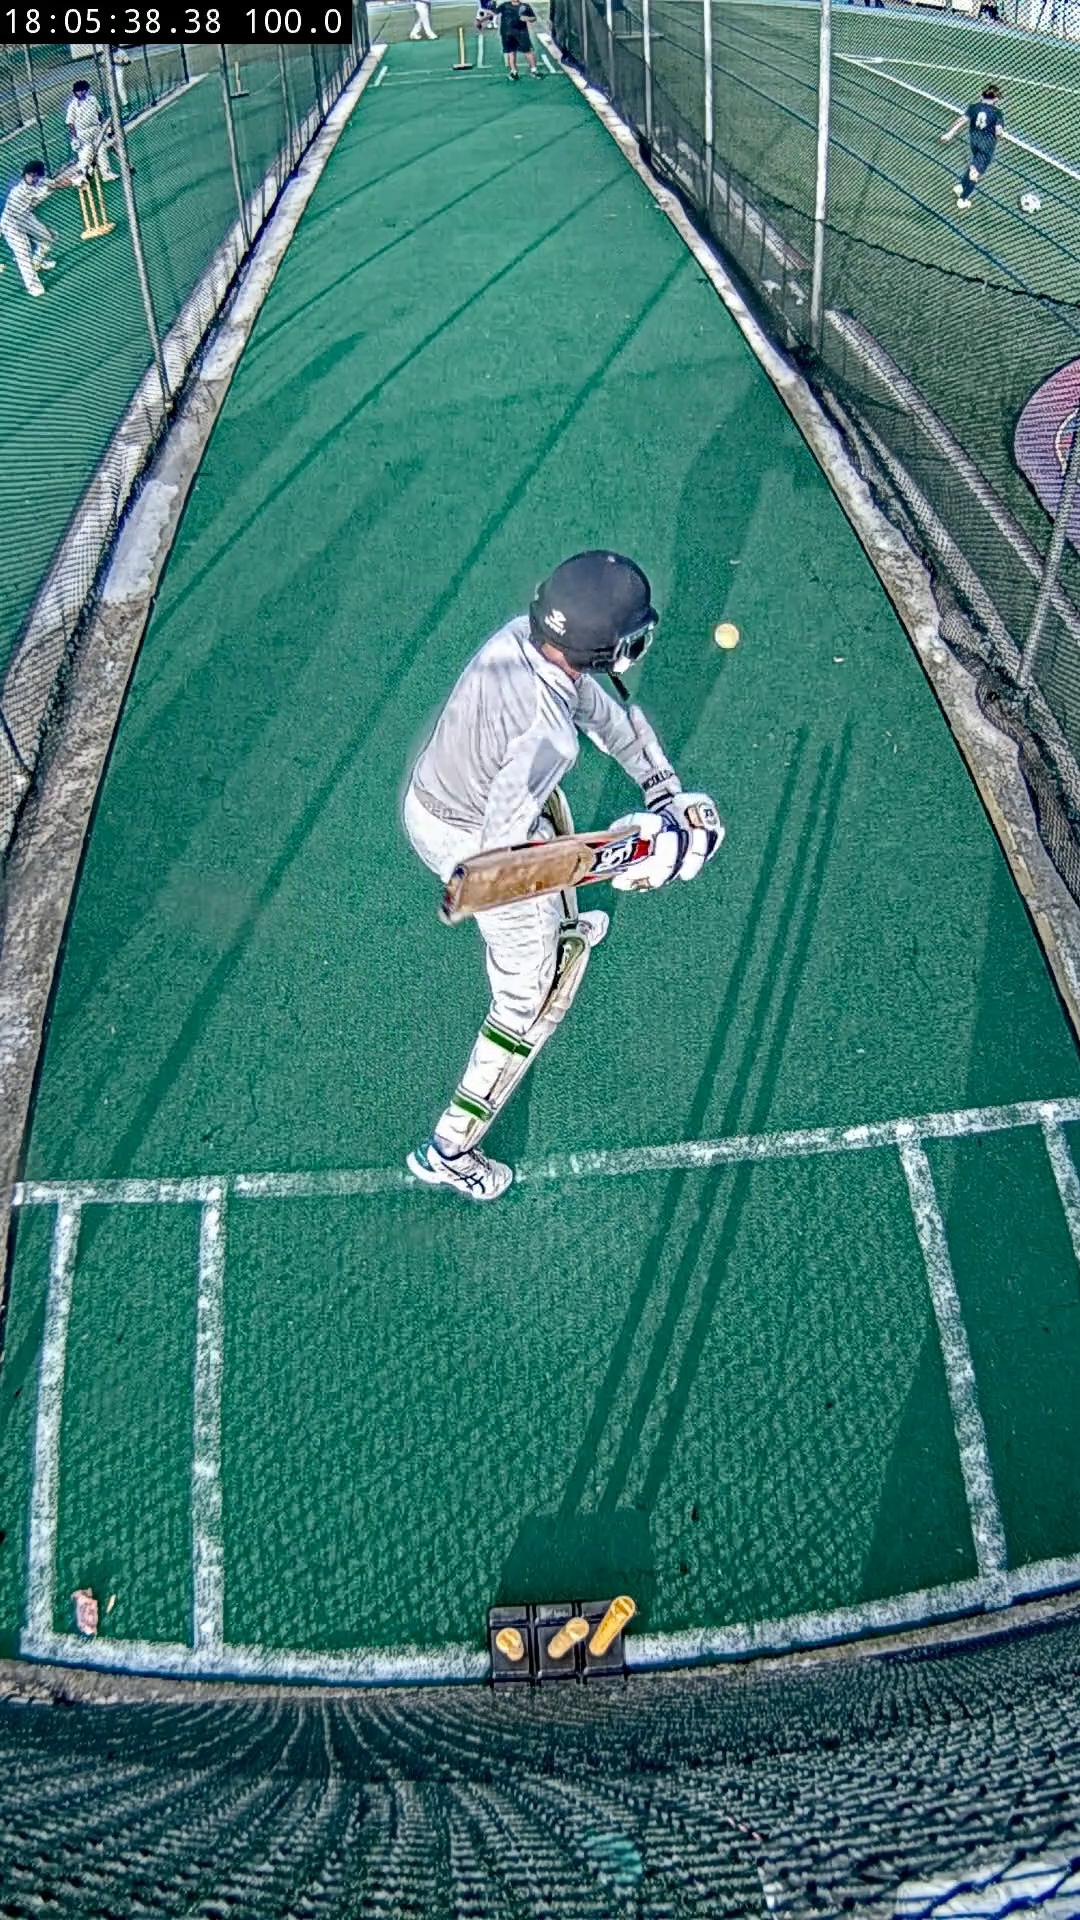ball: (712, 622, 738, 649)
bat: (439, 828, 649, 923)
gloves: (612, 791, 724, 893)
helmet: (529, 551, 657, 671)
pads: (468, 930, 588, 1139)
stumps: (488, 1594, 637, 1681)
